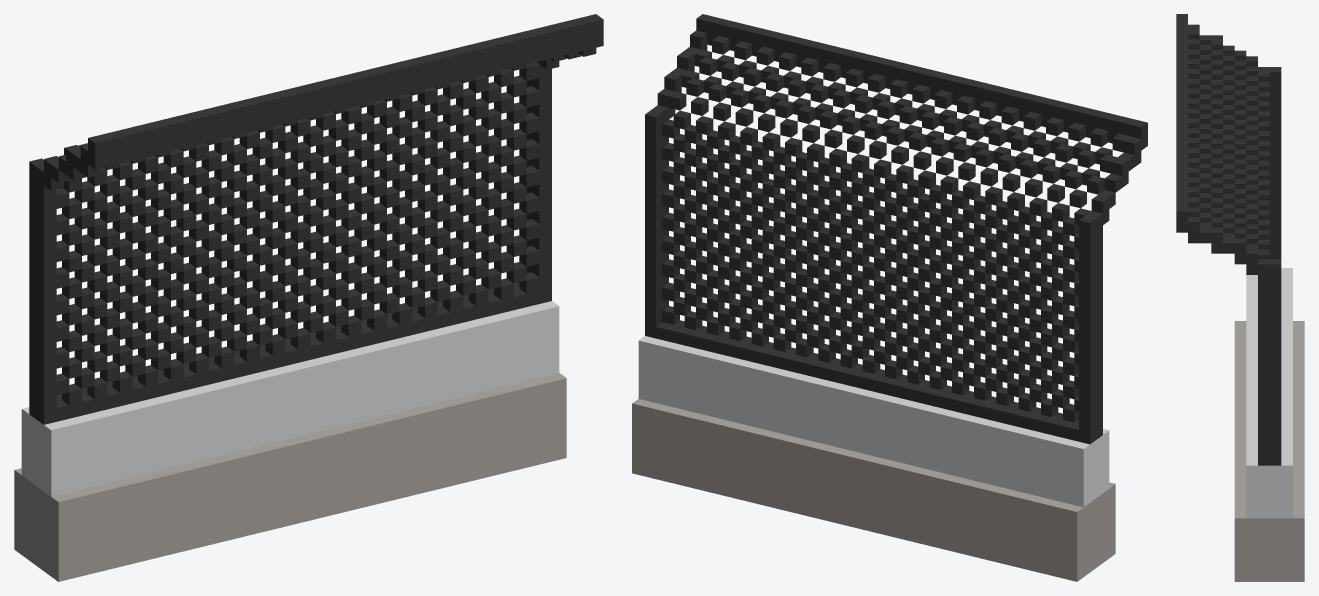
Rendered from cerca.fbx.
The picture shows the model from 3 angles, left to right: view 1: azimuth 30°, elevation 25°; view 2: azimuth 150°, elevation 25°; view 3: azimuth 270°, elevation 25°; orthographic projection. The views are drawn at different scales.
Parts seen in each view (by area): view 1: cerca; view 2: cerca; view 3: cerca.
Boxes of the visible parts, x1,y1,x2,y2 form: cerca: [14, 14, 603, 581]; cerca: [632, 14, 1147, 581]; cerca: [1176, 14, 1304, 581].
Size of the model in its own units: 40 by 35 by 11.
